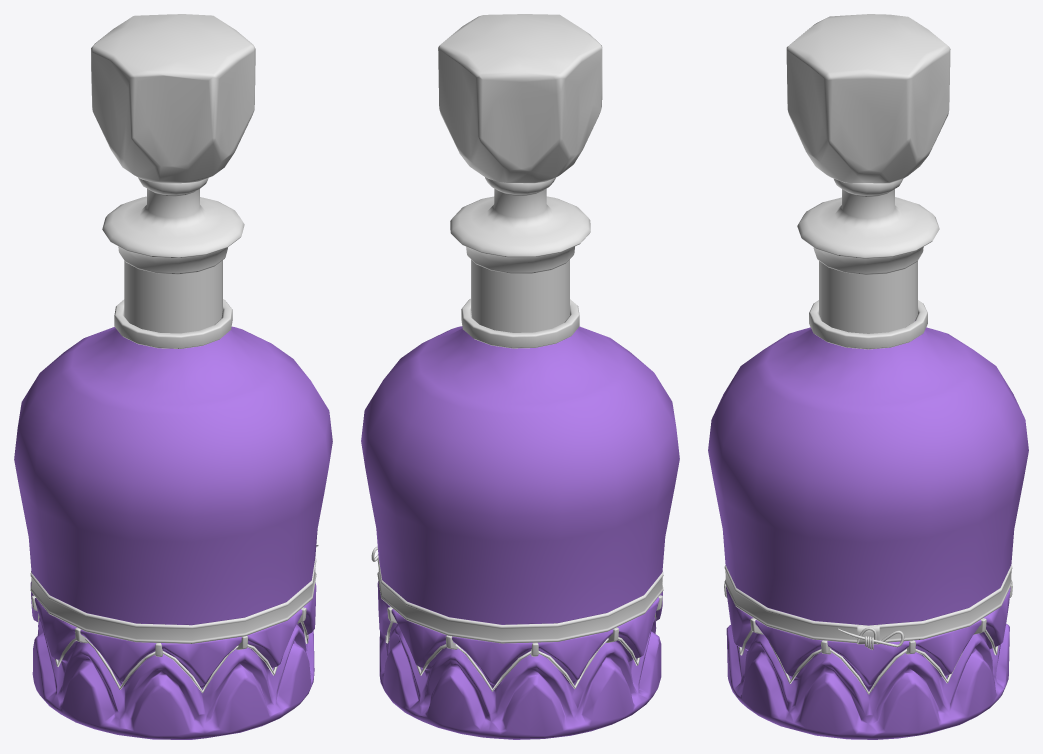
Rendered from SM_ADA_GlassBottle01_c1_LOD2.fbx.
3 views of the same model, side by side, from view 1: azimuth 30°, elevation 25°; view 2: azimuth 150°, elevation 25°; view 3: azimuth 270°, elevation 25° (orthographic).
Visible parts, largest first — view 1: SM_GlassBottle01_LOD2; view 2: SM_GlassBottle01_LOD2; view 3: SM_GlassBottle01_LOD2.
Boxes of the visible parts, left/top/right/bottom form: SM_GlassBottle01_LOD2: left=14, top=14, right=332, bottom=739; SM_GlassBottle01_LOD2: left=361, top=14, right=679, bottom=739; SM_GlassBottle01_LOD2: left=708, top=14, right=1028, bottom=739.
Size of what is drawn, in the model's own units: 13.41 by 29.86 by 13.41.
